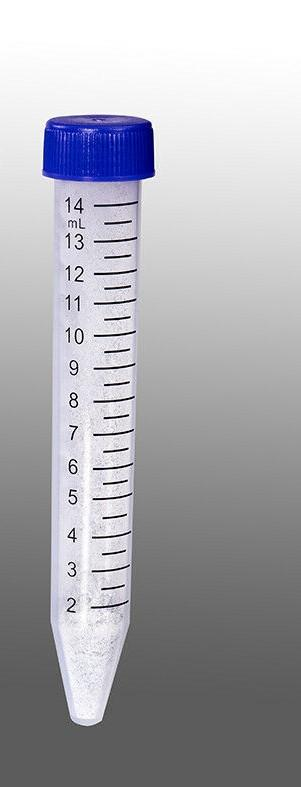Test tube: (42, 88, 136, 728)
